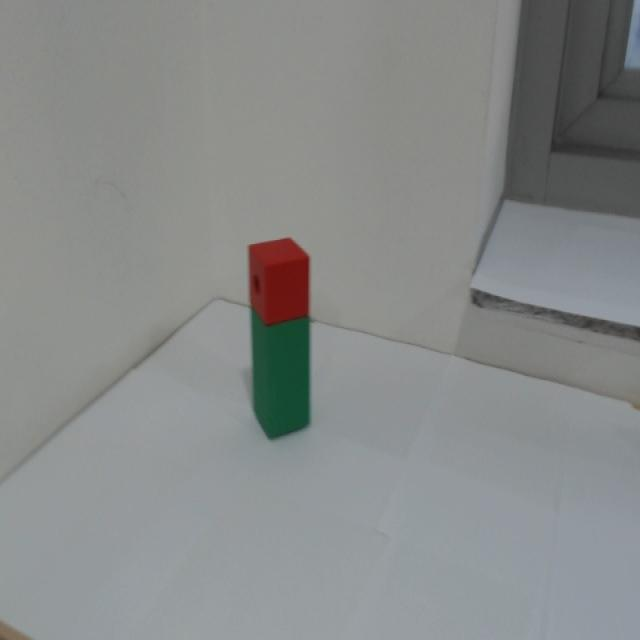cube: (233, 221, 322, 333)
